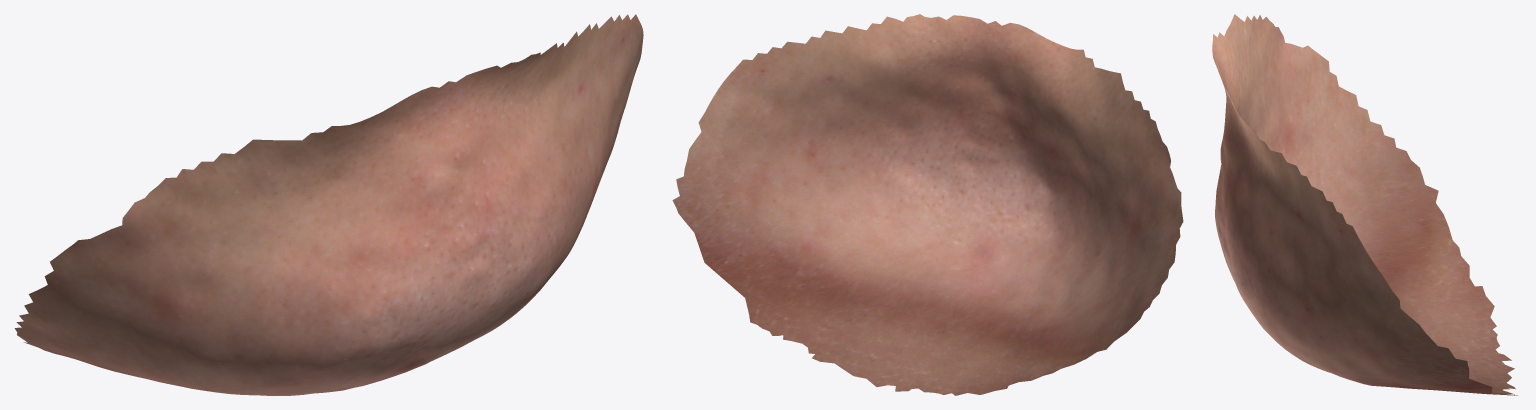
File: chin04.obj
The picture shows the model from 3 angles, left to right: view 1: azimuth 30°, elevation 25°; view 2: azimuth 150°, elevation 25°; view 3: azimuth 270°, elevation 25°; orthographic projection. The views are drawn at different scales.
Parts seen in each view (by area): view 1: default; view 2: default; view 3: default.
Boxes of the visible parts, x1,y1,x2,y2 form: default: [14, 14, 643, 395]; default: [672, 14, 1183, 395]; default: [1212, 14, 1517, 395].
Bounding box in the file's own units: 58.07 × 32.65 × 29.9.
1 material, 1 textured.
